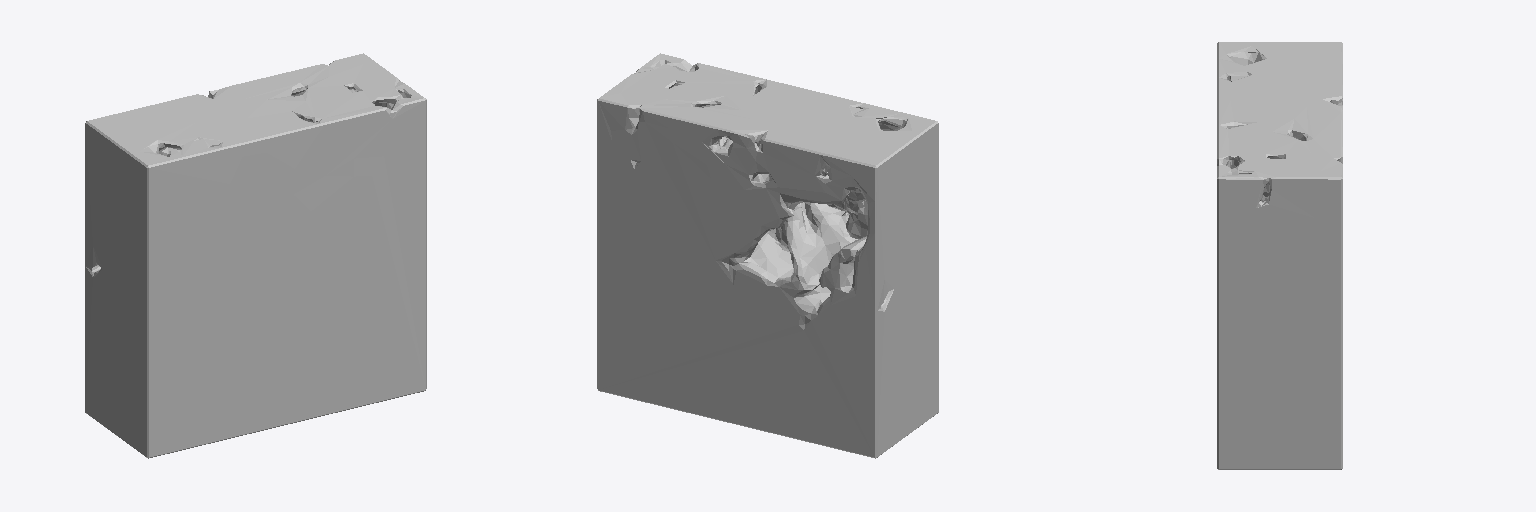
3 views of the same model, side by side, from view 1: azimuth 30°, elevation 25°; view 2: azimuth 150°, elevation 25°; view 3: azimuth 270°, elevation 25° (orthographic).
Visible parts, largest first — view 1: Liquid_Domain; view 2: Liquid_Domain; view 3: Liquid_Domain.
Part boxes in pixels (left/top/right/bottom): Liquid_Domain: left=85, top=53, right=426, bottom=458; Liquid_Domain: left=597, top=53, right=938, bottom=458; Liquid_Domain: left=1217, top=42, right=1342, bottom=469.
Bounding box in the file's own units: 885 × 885 × 344.